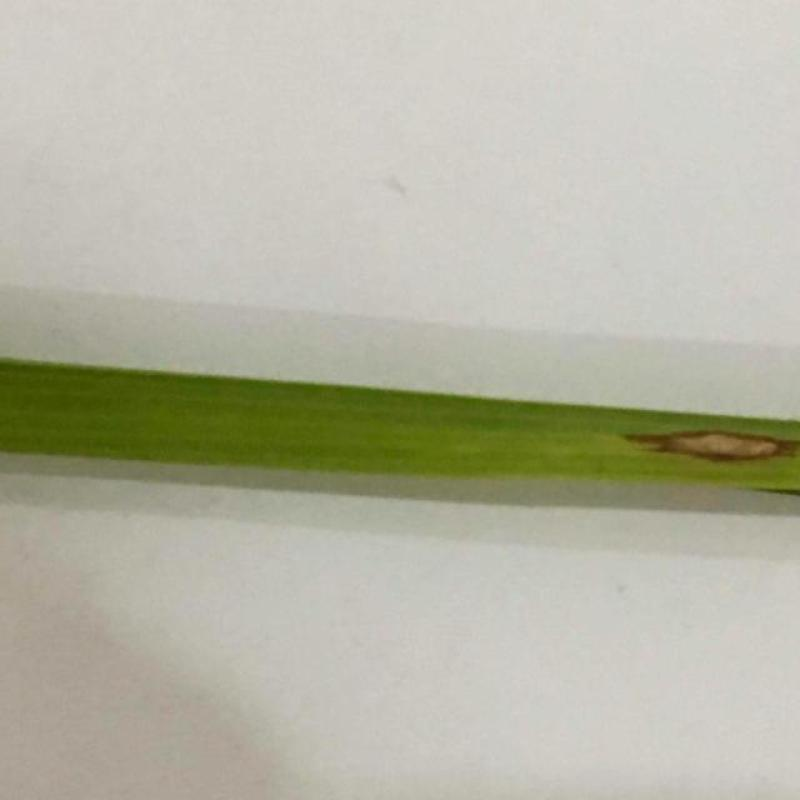Leaf_Blast: (617, 395, 800, 490)
